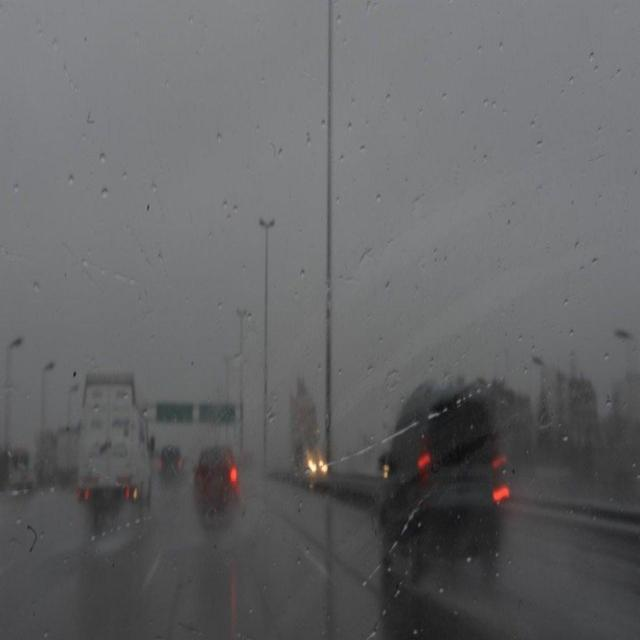Car: (376, 380, 512, 594), (194, 446, 240, 520), (159, 444, 187, 488)
Truck: (79, 366, 155, 552)
